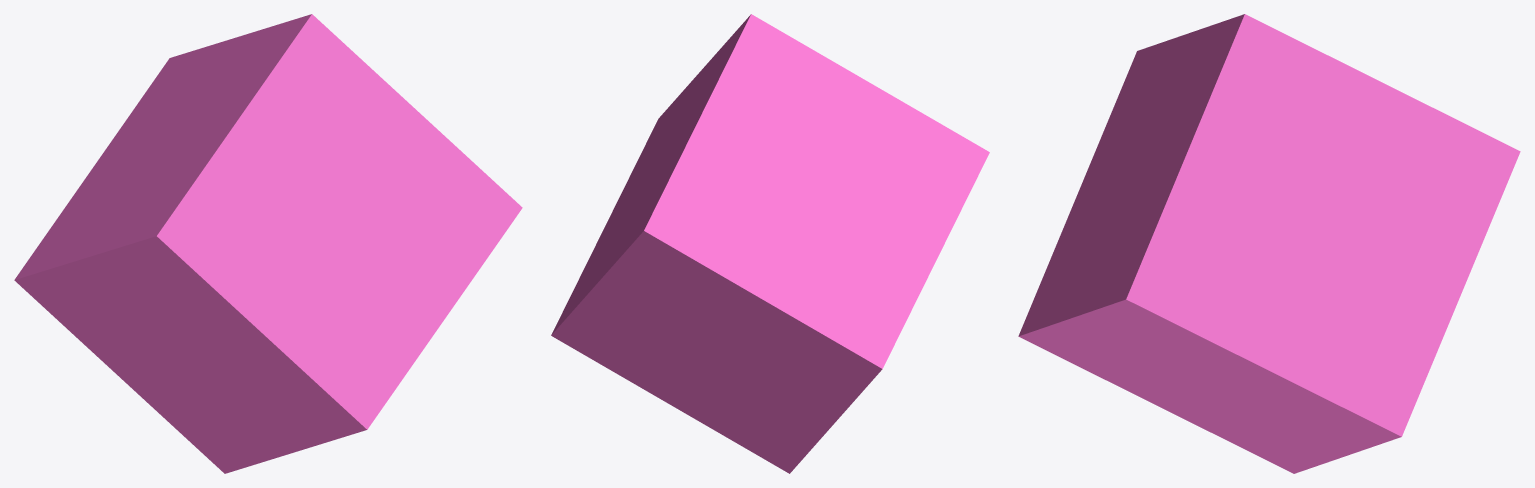
File: InfoExpo_EnNuestraPequeñaRegion.gltf
The picture shows the model from 3 angles, left to right: view 1: azimuth 30°, elevation 25°; view 2: azimuth 150°, elevation 25°; view 3: azimuth 270°, elevation 25°; orthographic projection. The views are drawn at different scales.
Parts seen in each view (by area): view 1: InfoExpo_EnNuestraPequeñaRegion; view 2: InfoExpo_EnNuestraPequeñaRegion; view 3: InfoExpo_EnNuestraPequeñaRegion.
Part boxes in pixels (left/top/right/bottom): InfoExpo_EnNuestraPequeñaRegion: left=14, top=14, right=522, bottom=473; InfoExpo_EnNuestraPequeñaRegion: left=551, top=14, right=989, bottom=473; InfoExpo_EnNuestraPequeñaRegion: left=1018, top=14, right=1520, bottom=473.
Size of the model in its own units: 0.3113 by 0.3661 by 0.3377.
